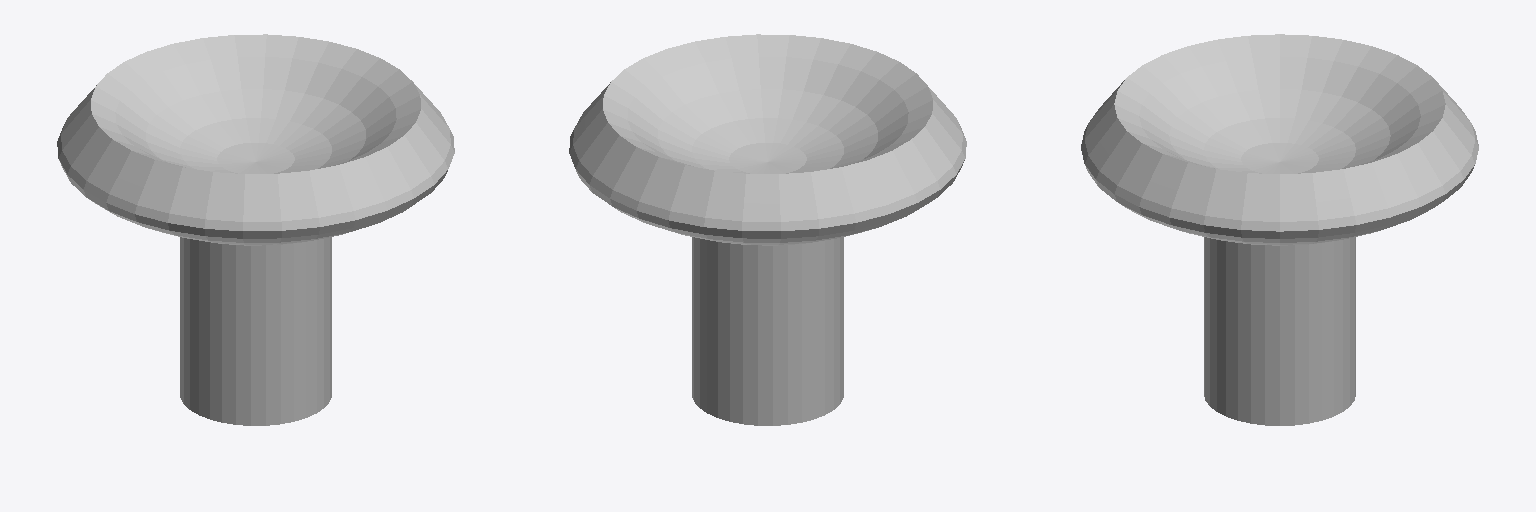
File: gamePad_analog.obj
3 renders of one model, left to right at view 1: azimuth 30°, elevation 25°; view 2: azimuth 150°, elevation 25°; view 3: azimuth 270°, elevation 25°, orthographic.
Visible parts, largest first — view 1: Sphere; view 2: Sphere; view 3: Sphere.
Boxes of the visible parts, <box> form: Sphere: <box>57,34,454,425</box>; Sphere: <box>569,34,966,425</box>; Sphere: <box>1081,34,1478,425</box>.
Bounding box in the file's own units: 0.4781 × 0.4014 × 0.4781.